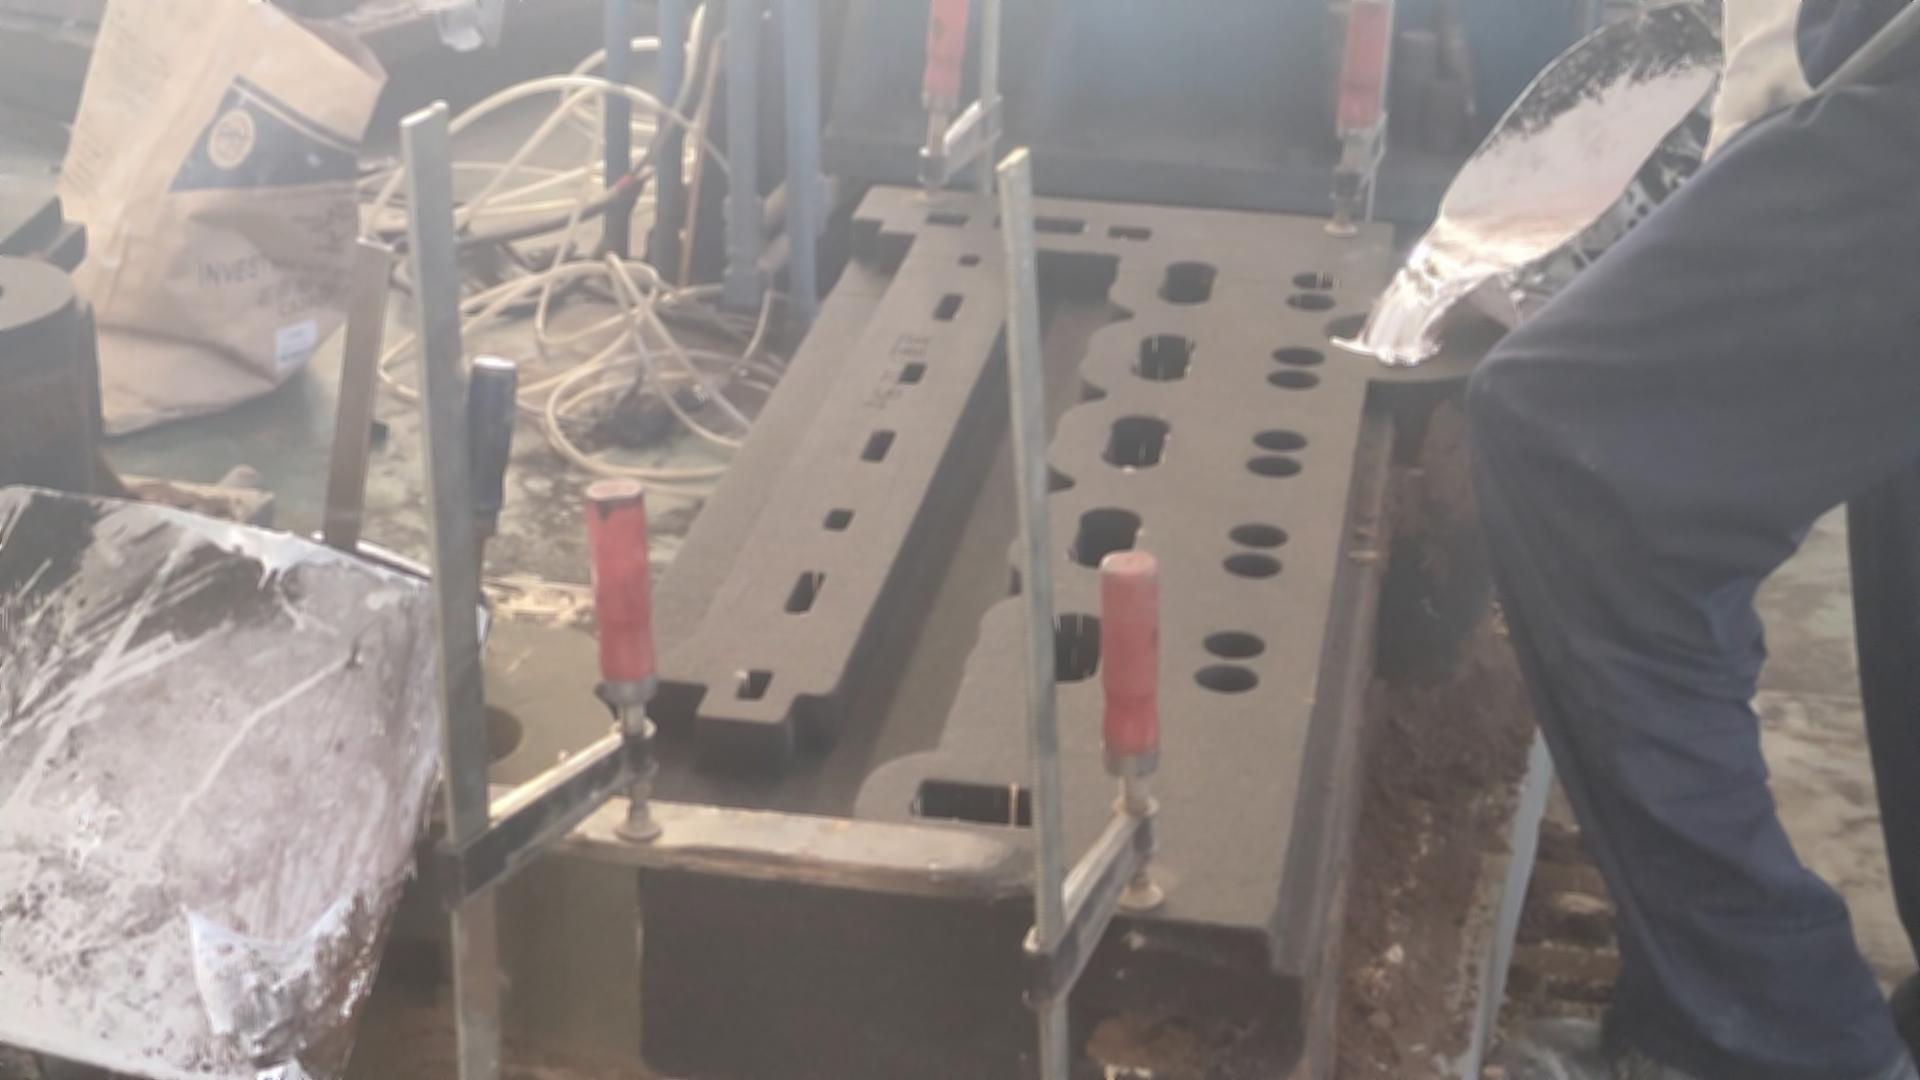pouring hole: (402, 698, 522, 769), (1320, 313, 1452, 357), (1, 284, 7, 301)
